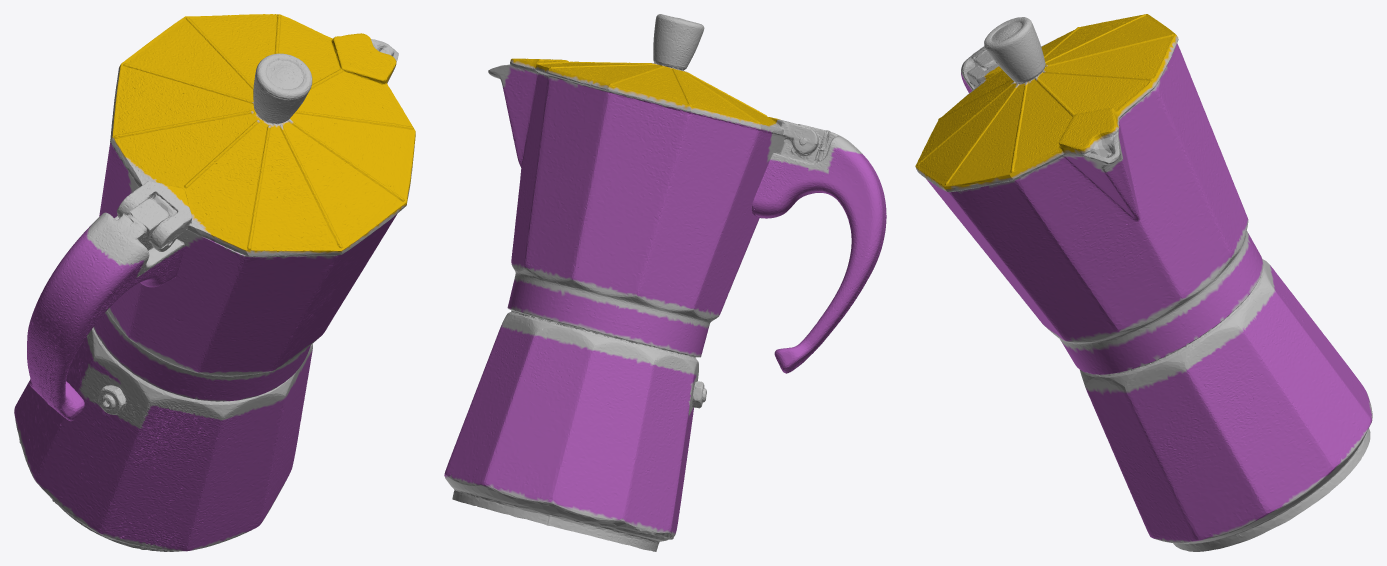
The model's file is taxonomy_14_merged.glb.
3 renders of one model, left to right at view 1: azimuth 30°, elevation 25°; view 2: azimuth 150°, elevation 25°; view 3: azimuth 270°, elevation 25°, orthographic. The views are drawn at different scales.
Parts seen in each view (by area): view 1: world; view 2: world; view 3: world.
Part boxes in pixels (x1=…): world: x1=14, y1=14, x2=415, y2=551; world: x1=444, y1=14, x2=886, y2=551; world: x1=915, y1=14, x2=1372, y2=551.
Bounding box in the file's own units: 152 × 196 × 160.
